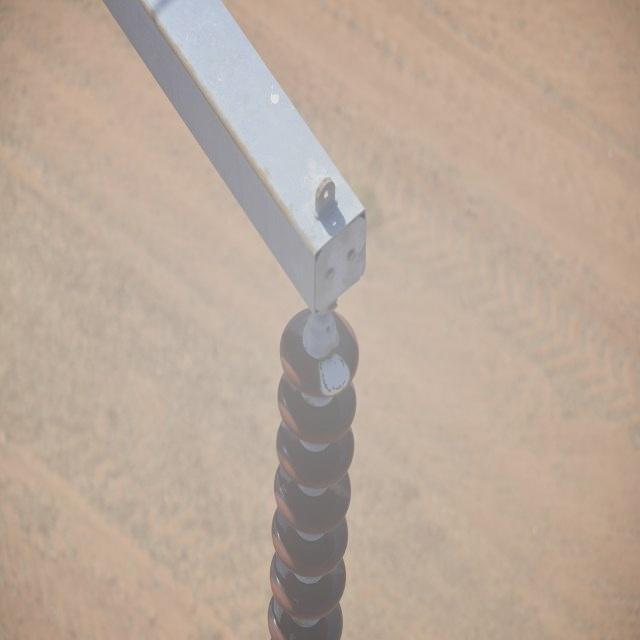insulator: (268, 310, 359, 638)
